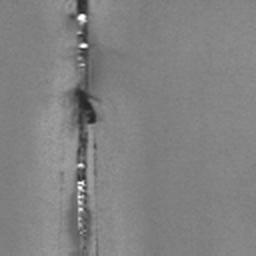Slag inclusion: (72, 86, 99, 256), (68, 0, 90, 74)
